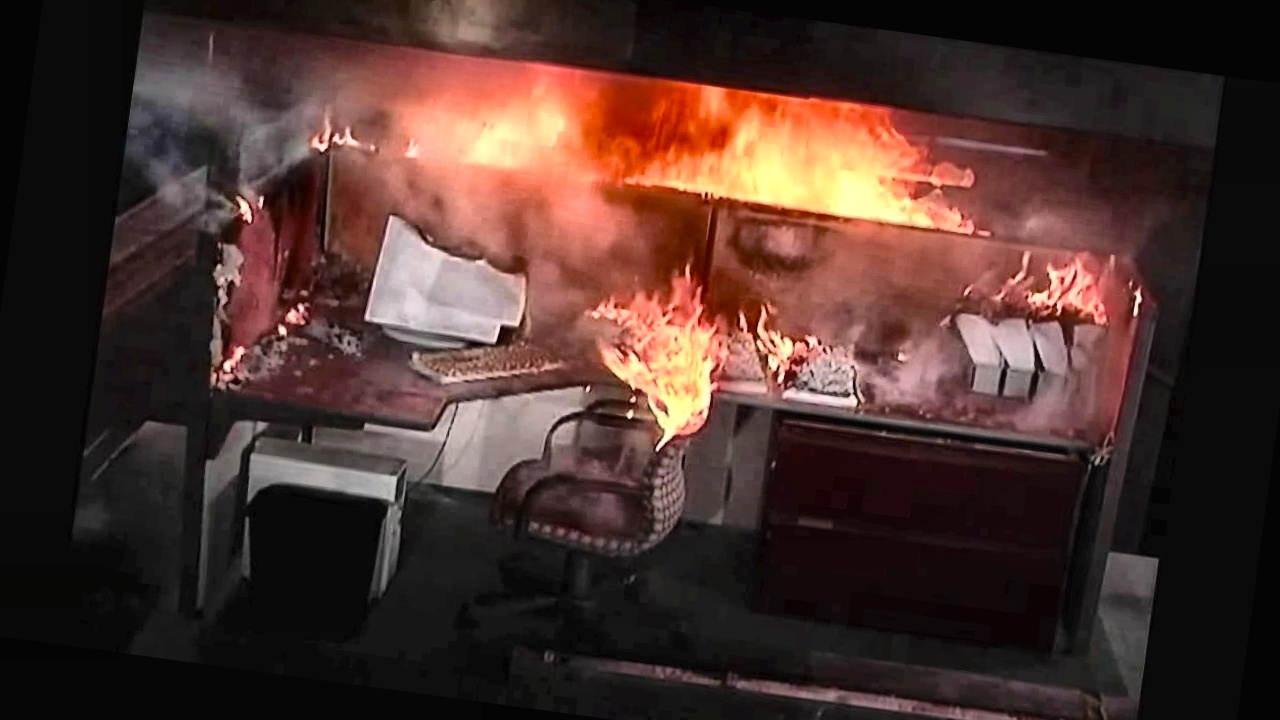fire: (428, 52, 950, 263), (583, 267, 742, 442)
